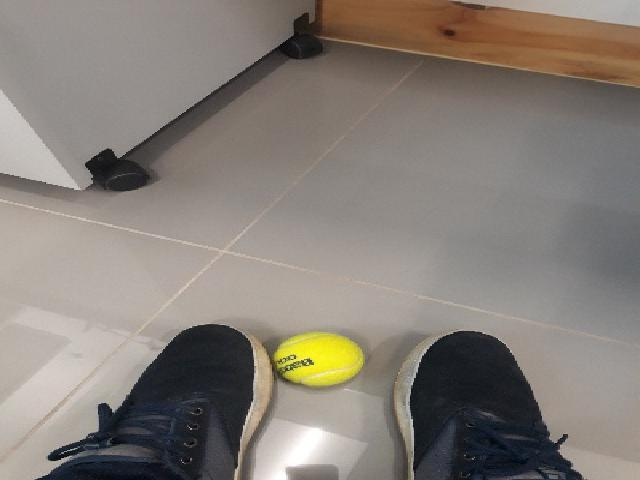Ball: (272, 330, 365, 388)
